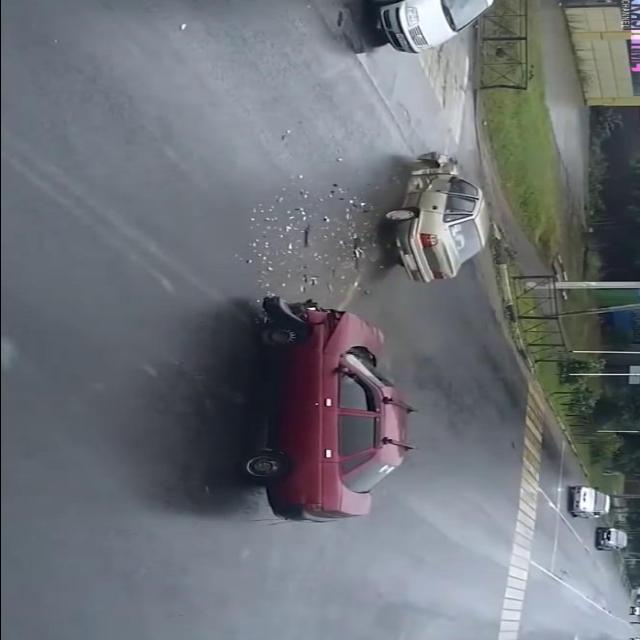accident: (209, 145, 511, 530)
